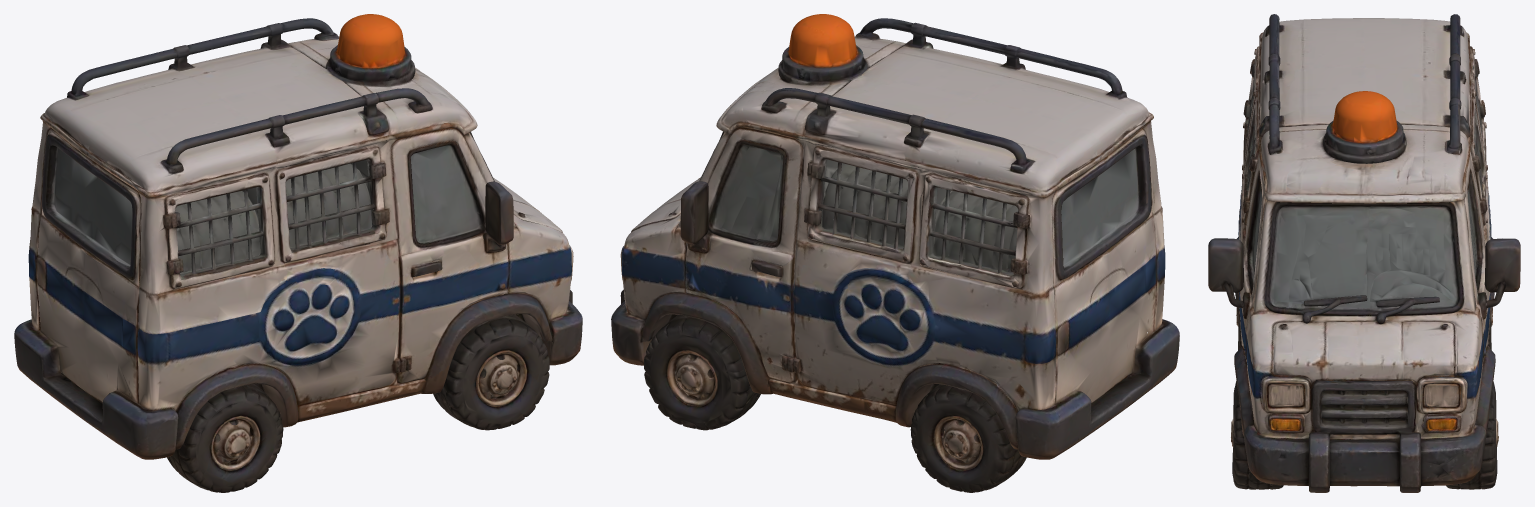
Rendered from prop-van.glb.
3 views of the same model, side by side, from view 1: azimuth 30°, elevation 25°; view 2: azimuth 150°, elevation 25°; view 3: azimuth 270°, elevation 25° (orthographic). The views are drawn at different scales.
Parts seen in each view (by area): view 1: tripo_node_16e48795-bcf0-46c3-926f-d61525608909; view 2: tripo_node_16e48795-bcf0-46c3-926f-d61525608909; view 3: tripo_node_16e48795-bcf0-46c3-926f-d61525608909.
Boxes of the visible parts, box(x1,y1,x2,y2) form: tripo_node_16e48795-bcf0-46c3-926f-d61525608909: box(14, 14, 582, 492); tripo_node_16e48795-bcf0-46c3-926f-d61525608909: box(611, 14, 1179, 492); tripo_node_16e48795-bcf0-46c3-926f-d61525608909: box(1208, 14, 1520, 492).
Size of the model in its own units: 0.9799 by 0.7499 by 0.5925.
1 material, 1 textured.
